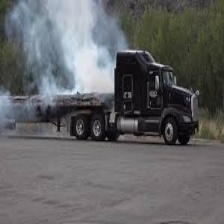smoke: (39, 1, 111, 92)
